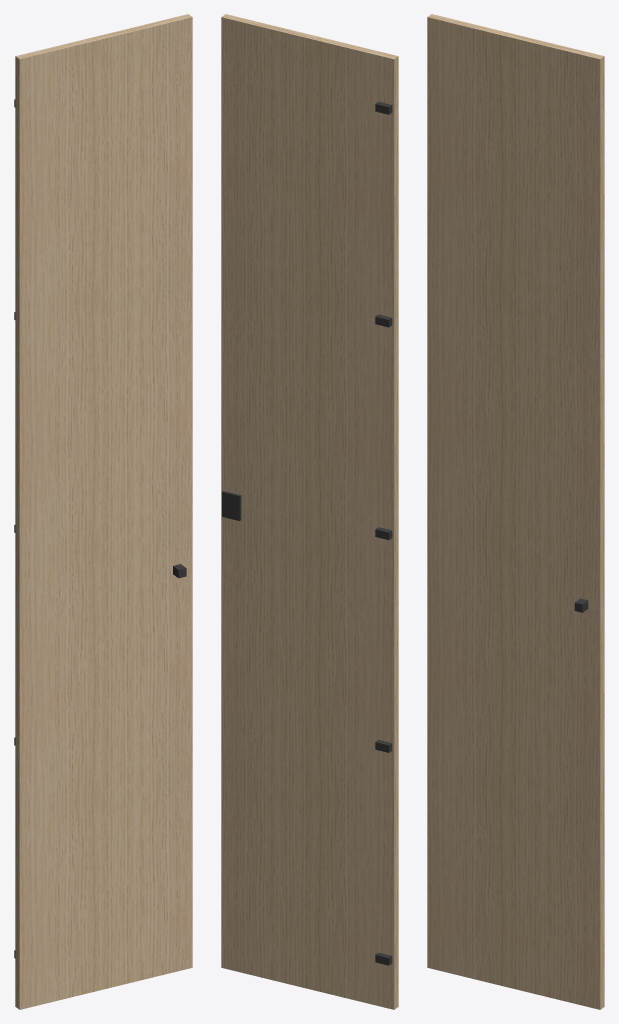
Rendered from C_dor_venstre.glb.
3 renders of one model, left to right at view 1: azimuth 30°, elevation 25°; view 2: azimuth 150°, elevation 25°; view 3: azimuth 330°, elevation 25°, orthographic.
Visible parts, largest first — view 1: 2025-284 Resepsjon høyskap; view 2: 2025-284 Resepsjon høyskap; view 3: 2025-284 Resepsjon høyskap.
Boxes of the visible parts, x1,y1,x2,y2 form: 2025-284 Resepsjon høyskap: (14, 14, 192, 1009); 2025-284 Resepsjon høyskap: (221, 14, 398, 1009); 2025-284 Resepsjon høyskap: (427, 14, 604, 1009).
Bounding box in the file's own units: 436 × 2287 × 58.
Materials: 2 (1 with a texture image).
